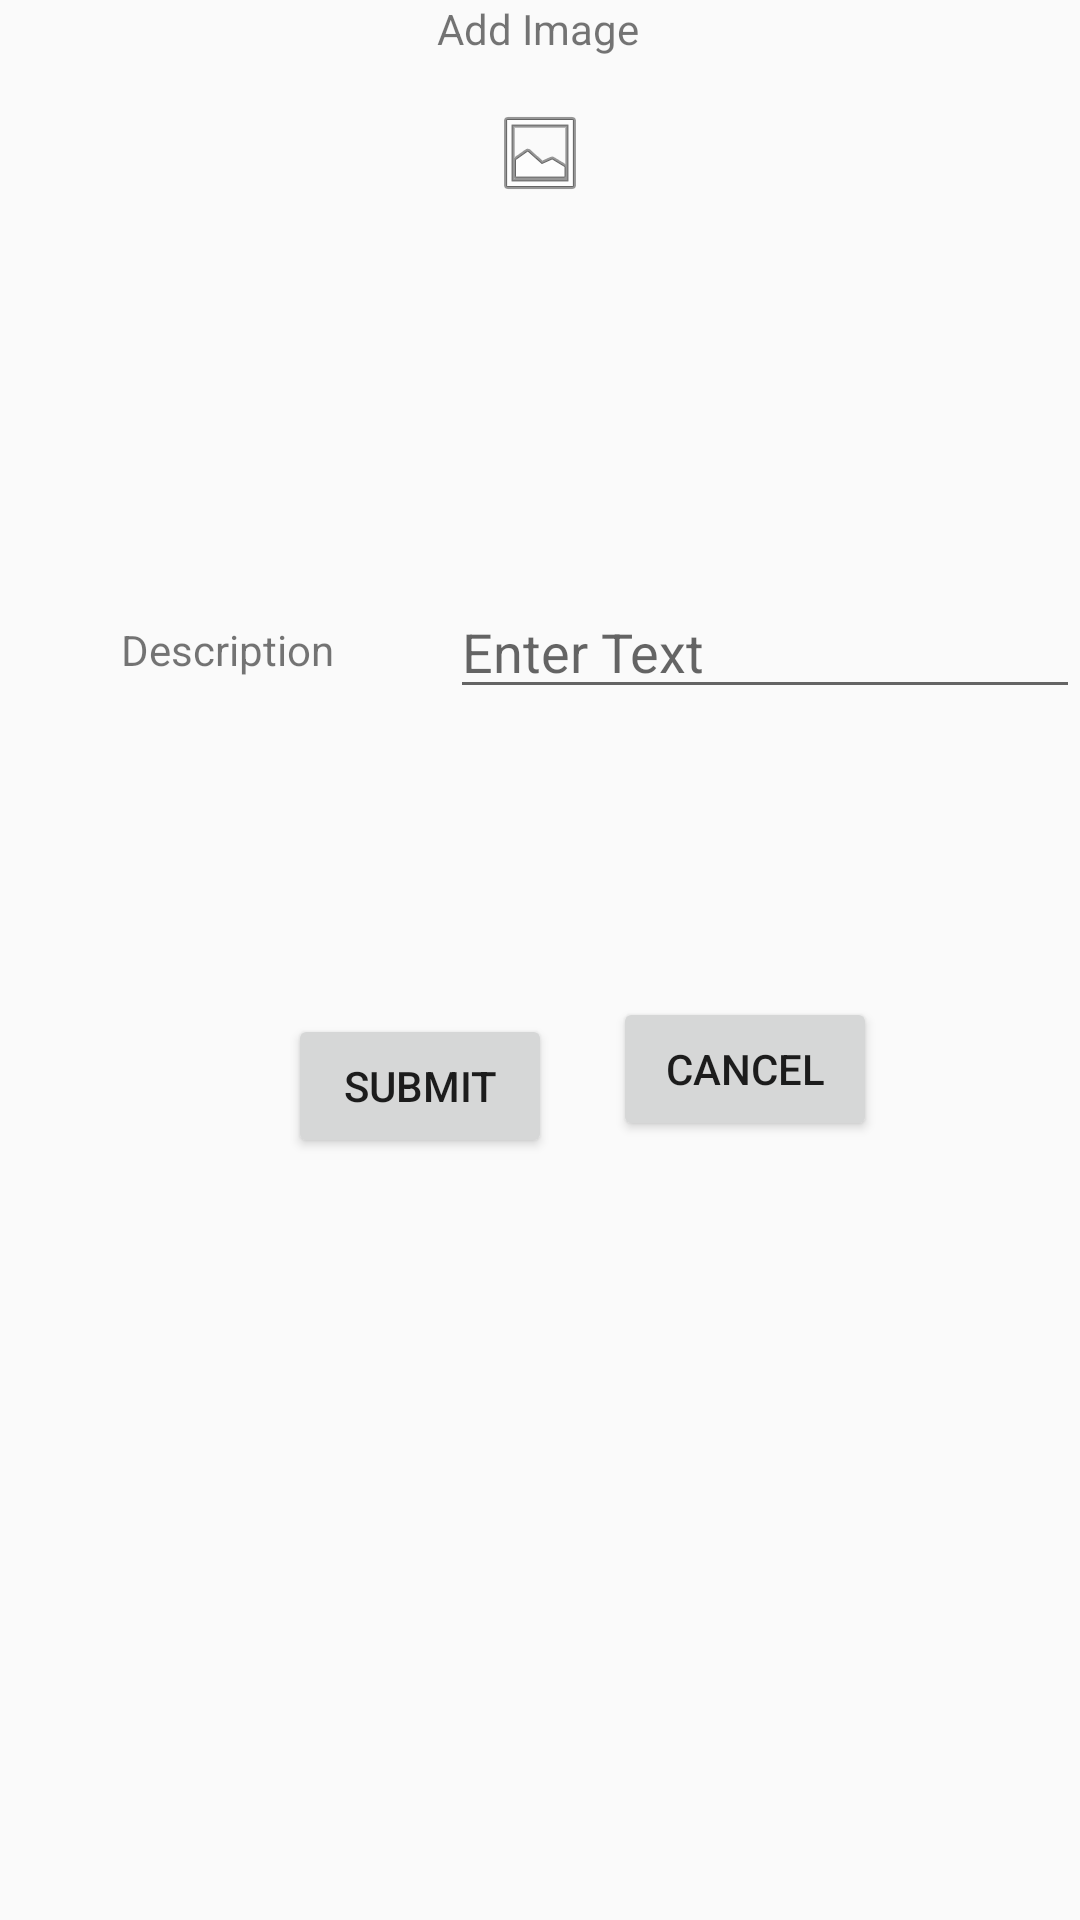

Where to tap for icons on this 1080 x 1920 app screen, as (x,y):
gallery: (540,153)
